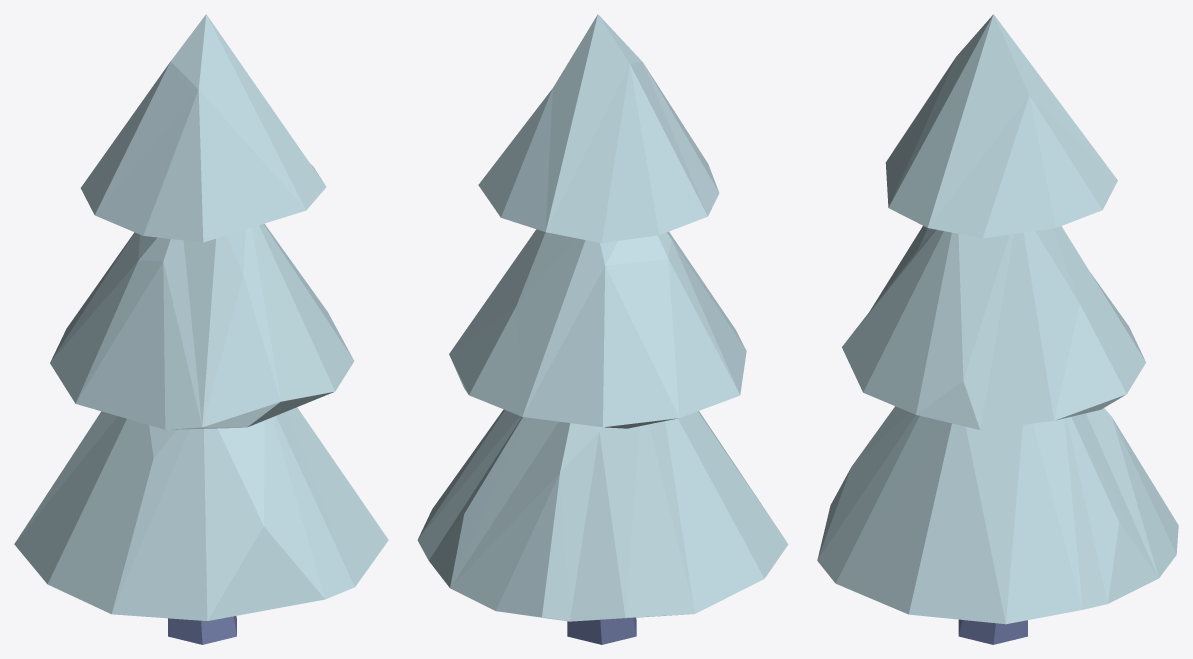
Rendered from pineTreeSmall_Blue.fbx.
The picture shows the model from 3 angles, left to right: view 1: azimuth 30°, elevation 25°; view 2: azimuth 150°, elevation 25°; view 3: azimuth 270°, elevation 25°; orthographic projection.
Visible parts, largest first — view 1: Leaves, Branch; view 2: Leaves, Branch; view 3: Leaves, Branch.
Boxes of the visible parts, x1=… form: Leaves: x1=14, y1=14, x2=388, y2=620; Branch: x1=168, y1=616, x2=236, y2=644; Leaves: x1=417, y1=14, x2=788, y2=621; Branch: x1=567, y1=617, x2=636, y2=644; Leaves: x1=817, y1=14, x2=1178, y2=624; Branch: x1=958, y1=619, x2=1027, y2=644.
Bounding box in the file's own units: 3.78 × 6.88 × 3.66.
